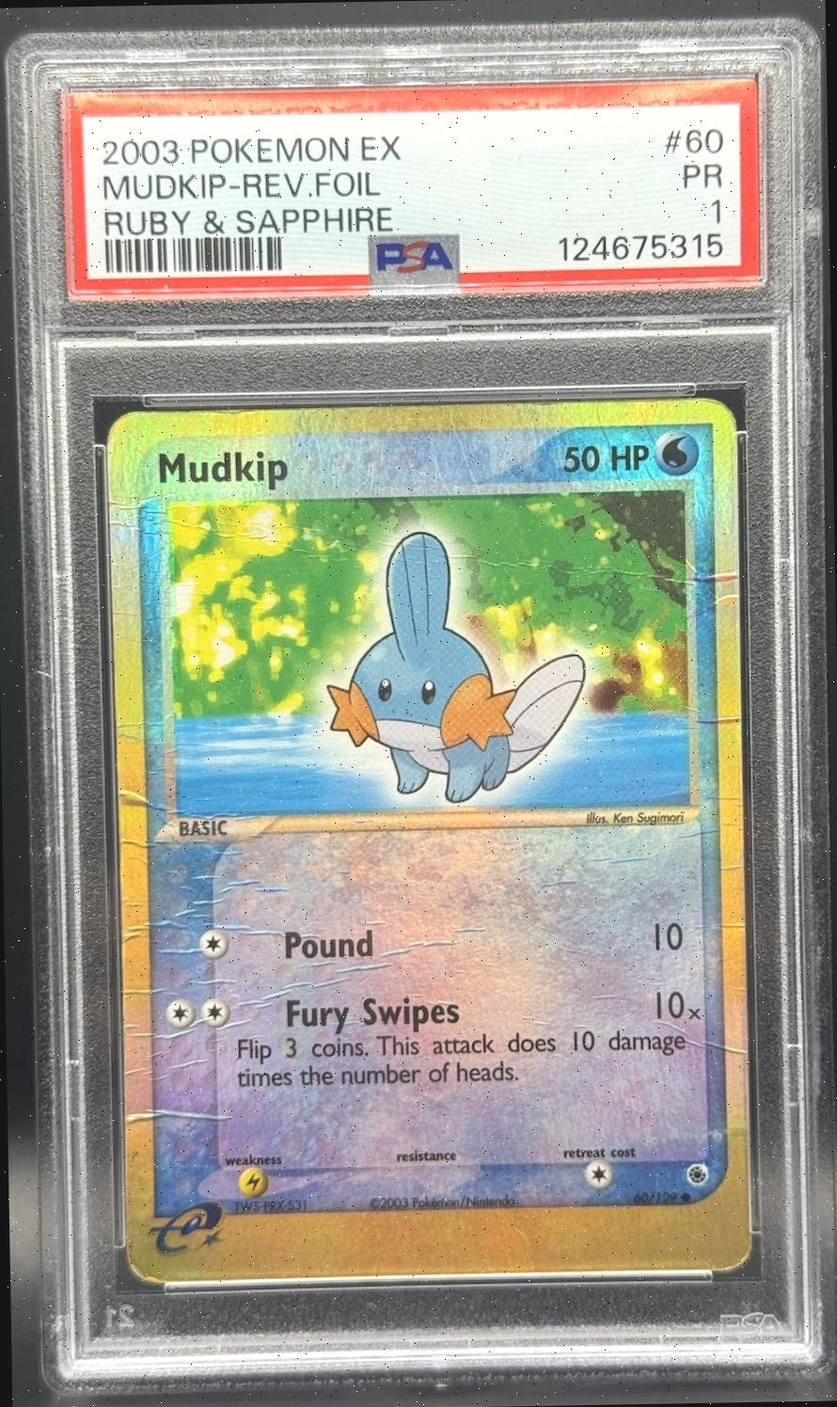card-2UtV: (106, 395, 754, 1283)
